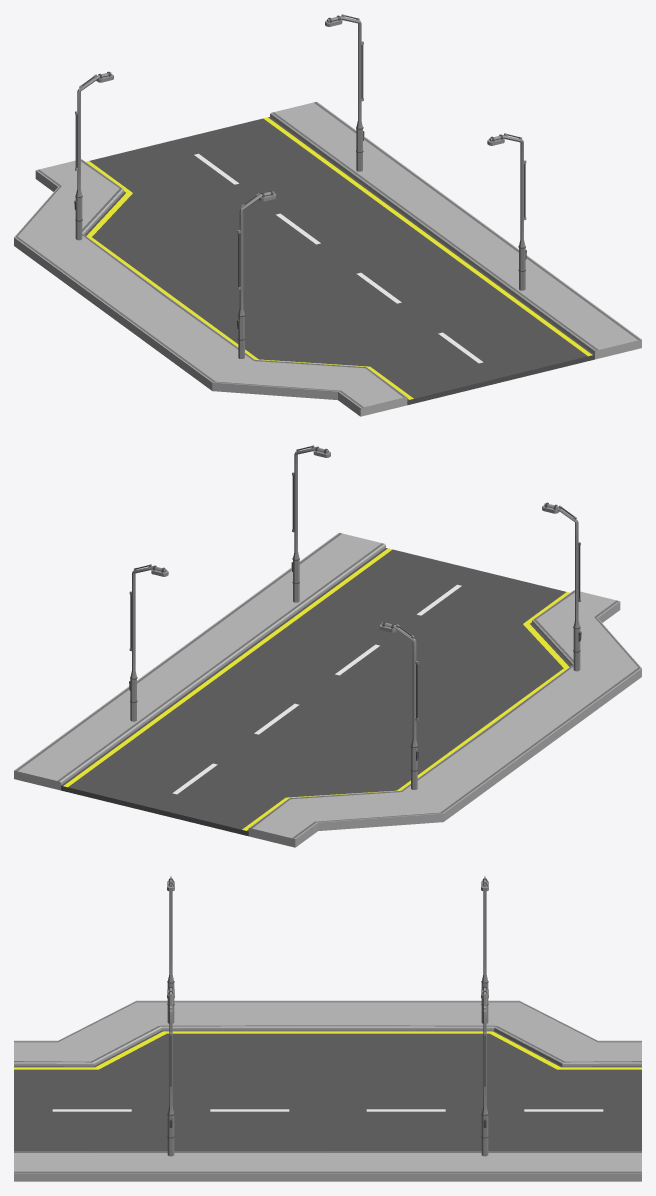
File: SM_Road_StraightStop_01.FBX
3 views of the same model, one above another, from view 1: azimuth 30°, elevation 25°; view 2: azimuth 150°, elevation 25°; view 3: azimuth 270°, elevation 25° (orthographic). The views are drawn at different scales.
Parts seen in each view (by area): view 1: SM_Road_StraightStop_01; view 2: SM_Road_StraightStop_01; view 3: SM_Road_StraightStop_01.
Boxes of the visible parts, x1,y1,x2,y2 form: SM_Road_StraightStop_01: [14, 14, 641, 416]; SM_Road_StraightStop_01: [14, 445, 641, 847]; SM_Road_StraightStop_01: [14, 876, 641, 1181].
Size of the model in its own units: 7.81 by 3.44 by 12.
1 material, 1 textured.
